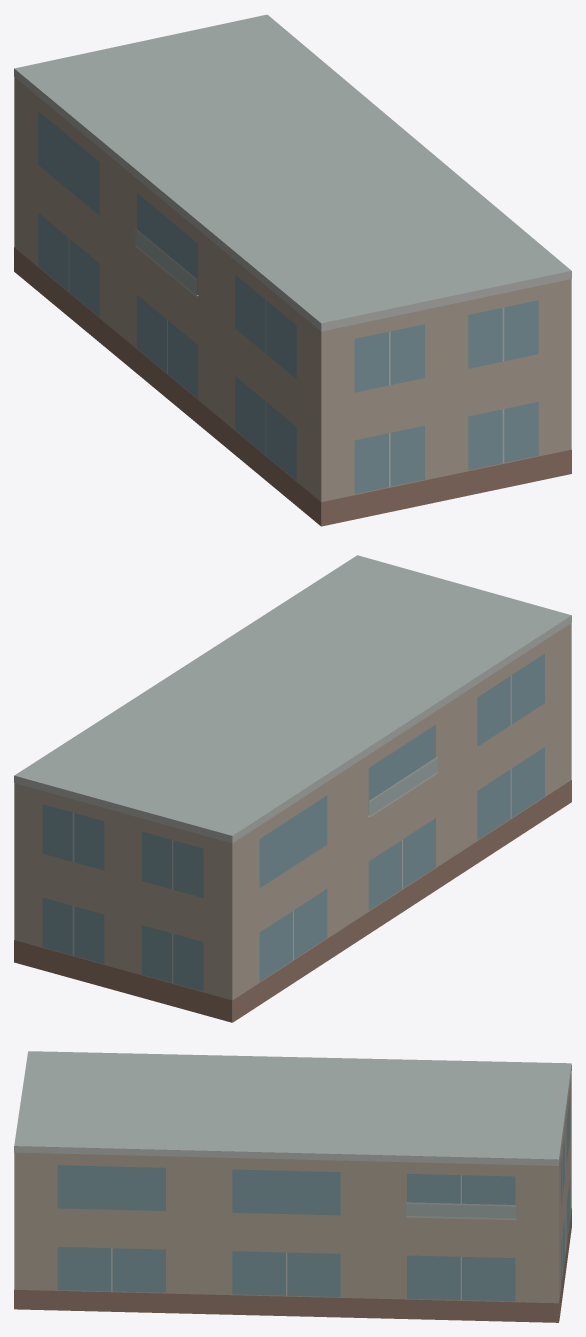
The model's file is survey-upis-32670241.glb.
3 views of the same model, one above another, from view 1: azimuth 30°, elevation 25°; view 2: azimuth 150°, elevation 25°; view 3: azimuth 270°, elevation 25° (orthographic). The views are drawn at different scales.
Visible parts, largest first — view 1: survey-upis-32670241.tmp; view 2: survey-upis-32670241.tmp; view 3: survey-upis-32670241.tmp.
Boxes of the visible parts, left/top/right/bottom form: survey-upis-32670241.tmp: left=14, top=14, right=571, bottom=526; survey-upis-32670241.tmp: left=14, top=555, right=571, bottom=1022; survey-upis-32670241.tmp: left=14, top=1051, right=571, bottom=1322.
Size of the model in its own units: 8.69 by 6.1 by 18.89.
